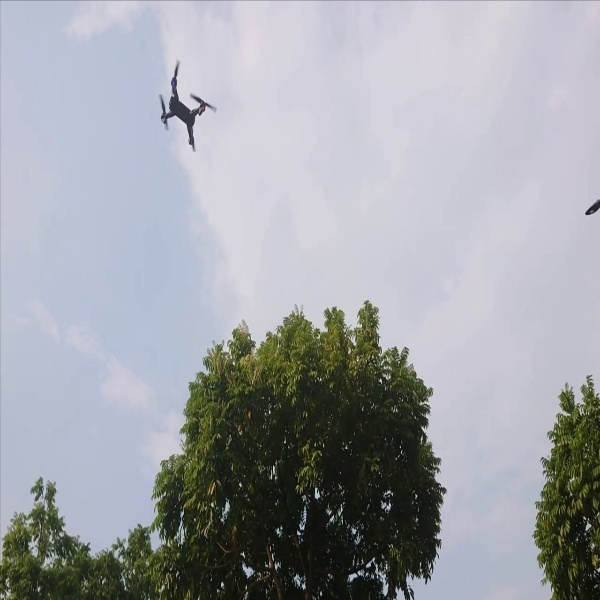drone: (150, 60, 228, 162)
